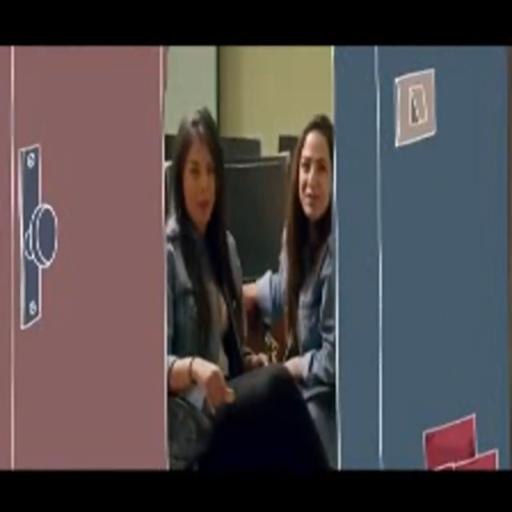nao-violencia: (164, 104, 335, 465)
